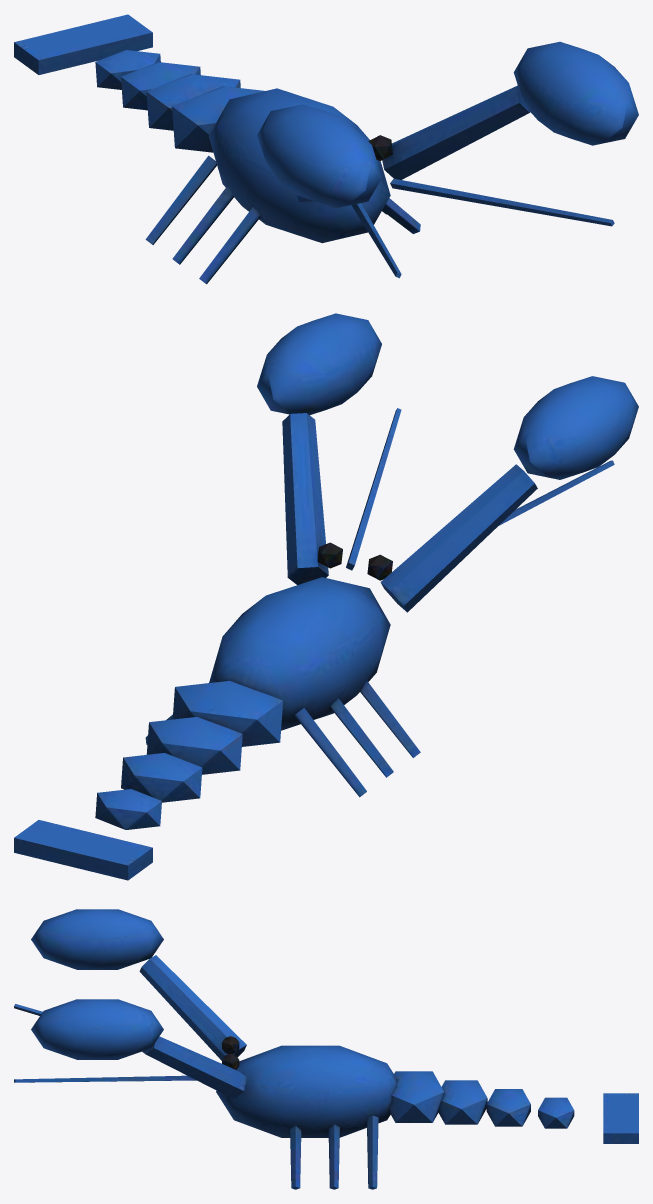
File: langosta_azul.glb
3 views of the same model, one above another, from view 1: azimuth 30°, elevation 25°; view 2: azimuth 150°, elevation 25°; view 3: azimuth 270°, elevation 25° (orthographic). The views are drawn at different scales.
Visible parts, largest first — view 1: langosta_azul; view 2: langosta_azul; view 3: langosta_azul.
Part boxes in pixels (bbox=[...]): langosta_azul: bbox=[14, 14, 638, 284]; langosta_azul: bbox=[14, 313, 638, 880]; langosta_azul: bbox=[14, 909, 638, 1189].
Size of the model in its own units: 0.9483 by 0.7356 by 2.11.
Materials: 1 (1 with a texture image).
